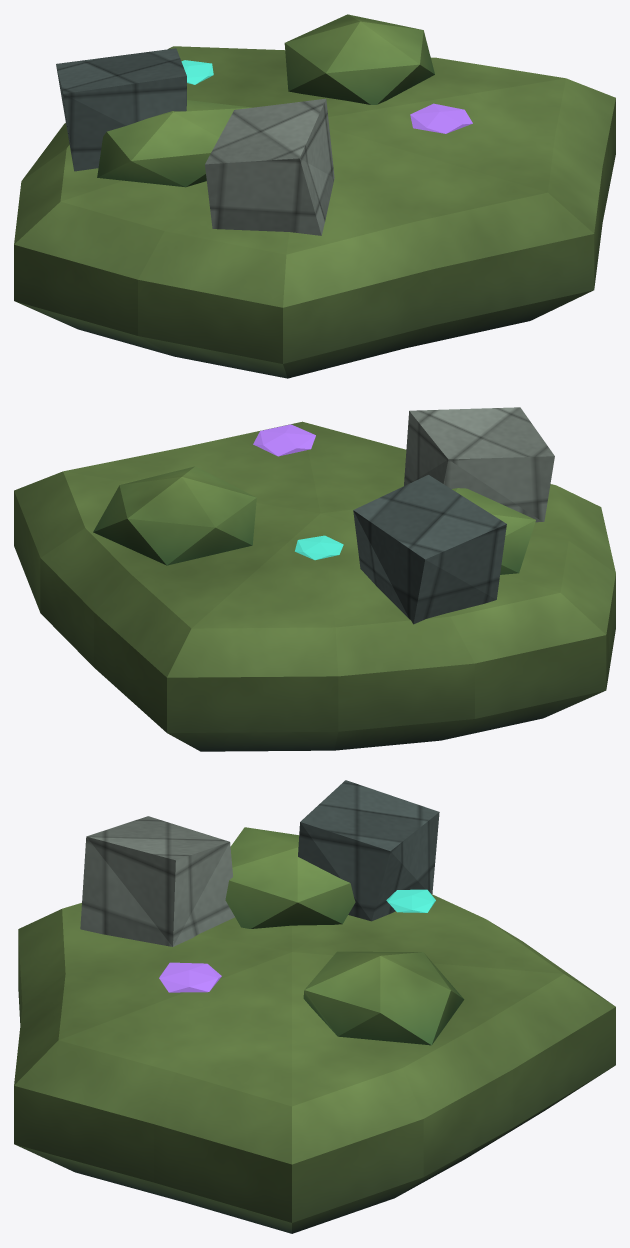
Rendered from mossy_island_b.glb.
3 views of the same model, one above another, from view 1: azimuth 30°, elevation 25°; view 2: azimuth 150°, elevation 25°; view 3: azimuth 270°, elevation 25° (orthographic). The views are drawn at different scales.
Visible parts, largest first — view 1: mossy_island_b; view 2: mossy_island_b; view 3: mossy_island_b.
Part boxes in pixels (<box>): mossy_island_b: <box>14,14,615,378</box>; mossy_island_b: <box>14,407,615,751</box>; mossy_island_b: <box>14,780,615,1233</box>.
Bounding box in the file's own units: 3.58 × 1.28 × 2.99.
3 materials, 3 textured.
